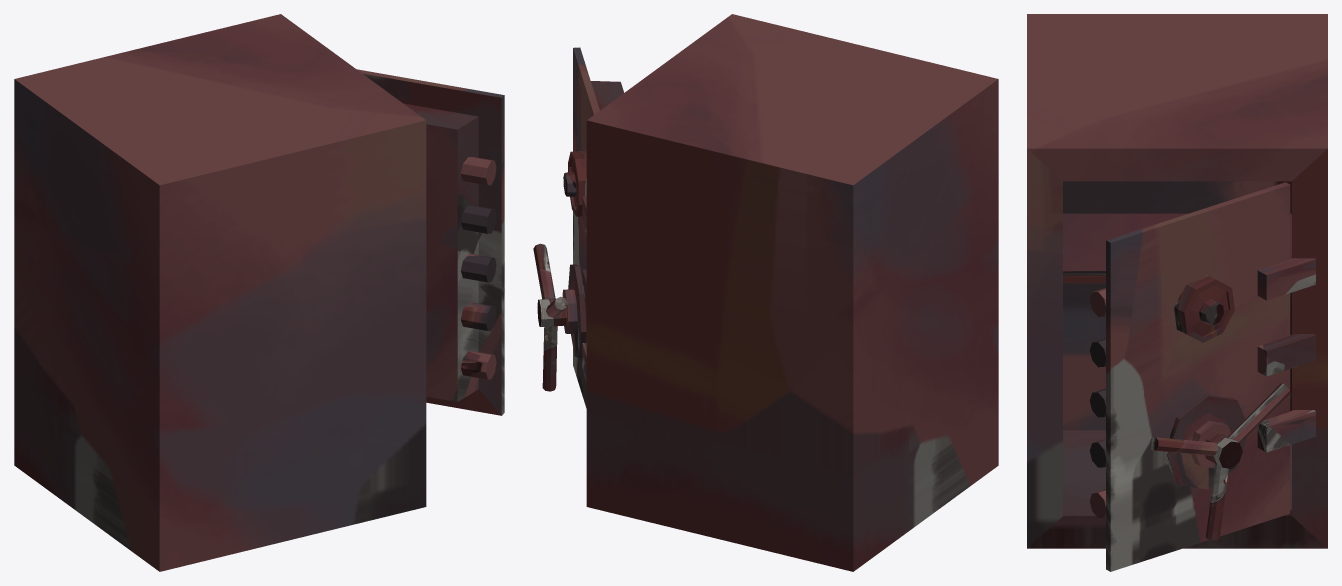
The model's file is open safe.fbx.
3 views of the same model, side by side, from view 1: azimuth 30°, elevation 25°; view 2: azimuth 150°, elevation 25°; view 3: azimuth 270°, elevation 25° (orthographic). The views are drawn at different scales.
Visible parts, largest first — view 1: open safe; view 2: open safe; view 3: open safe.
Boxes of the visible parts, box(x1,y1,x2,y2) form: open safe: box(14, 14, 504, 571); open safe: box(533, 14, 998, 571); open safe: box(1027, 14, 1327, 571).
Size of the model in its own units: 319 by 294 by 200.
